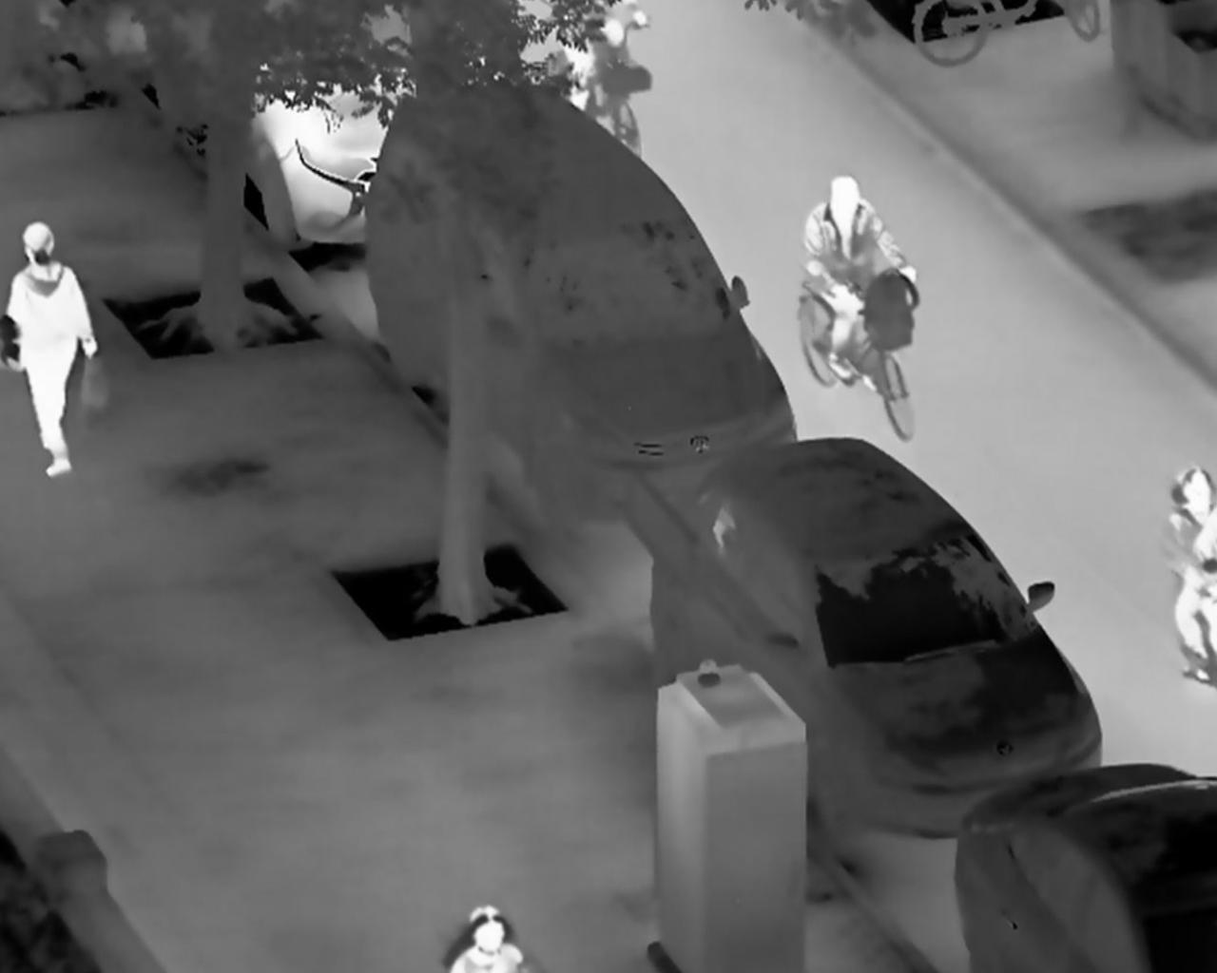person: (800, 172, 918, 384), (8, 220, 101, 483), (1153, 459, 1215, 670)
